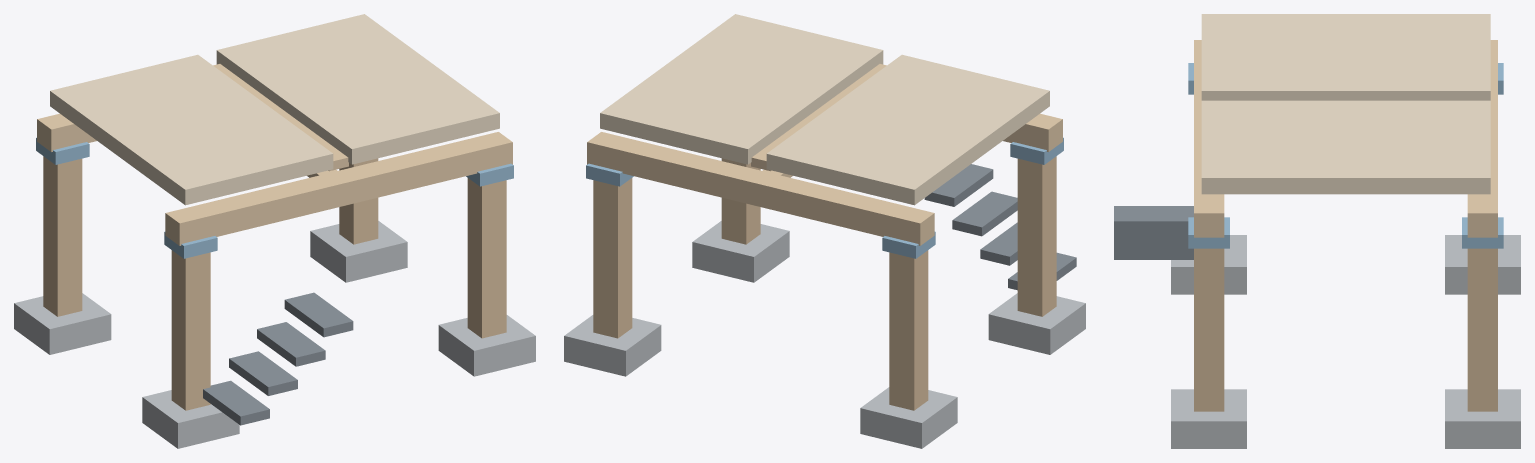
Rendered from pavilhao-explosao.glb.
The picture shows the model from 3 angles, left to right: view 1: azimuth 30°, elevation 25°; view 2: azimuth 150°, elevation 25°; view 3: azimuth 270°, elevation 25°; orthographic projection. The views are drawn at different scales.
Parts seen in each view (by area): view 1: Laje Painel Oeste, Laje Painel Leste, Viga Longitudinal Sul, Pilar P01, Pilar P04, Pilar P03, Sapata 04, Sapata 01, Sapata 02, Sapata 03, Degrau 4, Degrau 2 (+8 smaller); view 2: Laje Painel Oeste, Laje Painel Leste, Viga Longitudinal Norte, Pilar P01, Pilar P02, Pilar P03, Sapata 02, Sapata 03, Sapata 01, Sapata 04, Degrau 3, Pilar P04 (+8 smaller); view 3: Laje Painel Leste, Laje Painel Oeste, Pilar P02, Pilar P04, Sapata 02, Sapata 04, Sapata 01, Viga Longitudinal Norte, Viga Longitudinal Sul, Sapata 03, Degrau 4, Degrau 2 (+4 smaller).
Part boxes in pixels (x1,y1,x2,y2): Laje Painel Oeste: [50, 54, 333, 205]; Laje Painel Leste: [216, 14, 499, 164]; Viga Longitudinal Sul: [165, 132, 512, 245]; Pilar P01: [43, 156, 82, 316]; Pilar P04: [467, 178, 506, 338]; Pilar P03: [171, 250, 210, 410]; Sapata 04: [438, 315, 535, 376]; Sapata 01: [14, 293, 111, 354]; Sapata 02: [310, 221, 407, 282]; Sapata 03: [142, 390, 239, 448]; Degrau 4: [284, 292, 353, 337]; Degrau 2: [229, 351, 297, 395]; Laje Painel Oeste: [766, 54, 1049, 205]; Laje Painel Leste: [600, 14, 883, 164]; Viga Longitudinal Norte: [587, 132, 934, 245]; Pilar P01: [889, 250, 928, 410]; Pilar P02: [593, 178, 632, 338]; Pilar P03: [1017, 156, 1056, 316]; Sapata 02: [564, 315, 661, 376]; Sapata 03: [988, 293, 1085, 354]; Sapata 01: [860, 387, 957, 448]; Sapata 04: [692, 221, 789, 282]; Degrau 3: [952, 191, 1017, 236]; Pilar P04: [721, 158, 760, 244]; Laje Painel Leste: [1201, 100, 1490, 194]; Laje Painel Oeste: [1201, 14, 1490, 100]; Pilar P02: [1467, 248, 1497, 411]; Pilar P04: [1194, 248, 1224, 411]; Sapata 02: [1445, 389, 1520, 448]; Sapata 04: [1171, 389, 1246, 448]; Sapata 01: [1445, 235, 1520, 294]; Viga Longitudinal Norte: [1467, 40, 1497, 237]; Viga Longitudinal Sul: [1194, 40, 1224, 237]; Sapata 03: [1171, 235, 1246, 294]; Degrau 4: [1114, 206, 1193, 230]; Degrau 2: [1114, 240, 1193, 250].
Bounding box in the file's own units: 0.58 × 0.377 × 0.535.
